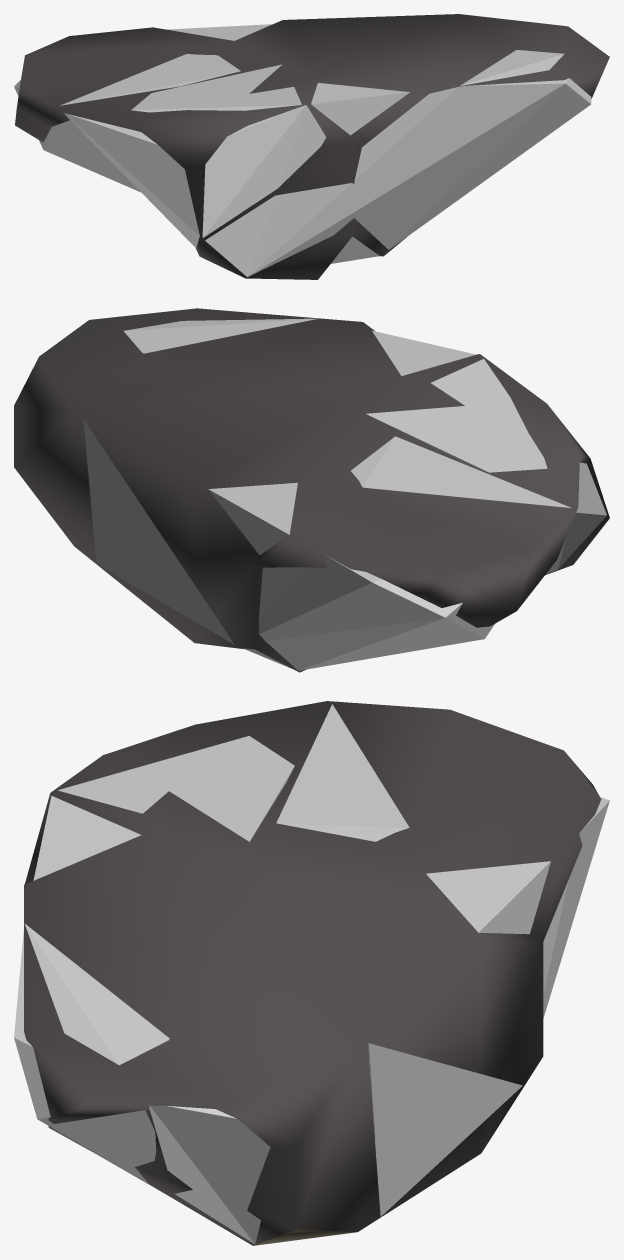
The model's file is SM_RandomBit_03.fbx.
The picture shows the model from 3 angles, top to bottom: view 1: azimuth 30°, elevation 25°; view 2: azimuth 150°, elevation 25°; view 3: azimuth 270°, elevation 25°; orthographic projection. The views are drawn at different scales.
Parts seen in each view (by area): view 1: SM_RandomBit_03_ConvexHulls, SM_RandomBit_03; view 2: SM_RandomBit_03, SM_RandomBit_03_ConvexHulls; view 3: SM_RandomBit_03, SM_RandomBit_03_ConvexHulls.
Boxes of the visible parts, x1=… form: SM_RandomBit_03_ConvexHulls: x1=14, y1=24, x2=591, y2=277; SM_RandomBit_03: x1=15, y1=14, x2=609, y2=279; SM_RandomBit_03: x1=14, y1=308, x2=609, y2=672; SM_RandomBit_03_ConvexHulls: x1=83, y1=318, x2=606, y2=670; SM_RandomBit_03: x1=24, y1=701, x2=601, y2=1245; SM_RandomBit_03_ConvexHulls: x1=14, y1=704, x2=609, y2=1244.
Size of the model in its own units: 3.58 by 2.31 by 1.25.
Materials: 2 (1 with a texture image).
